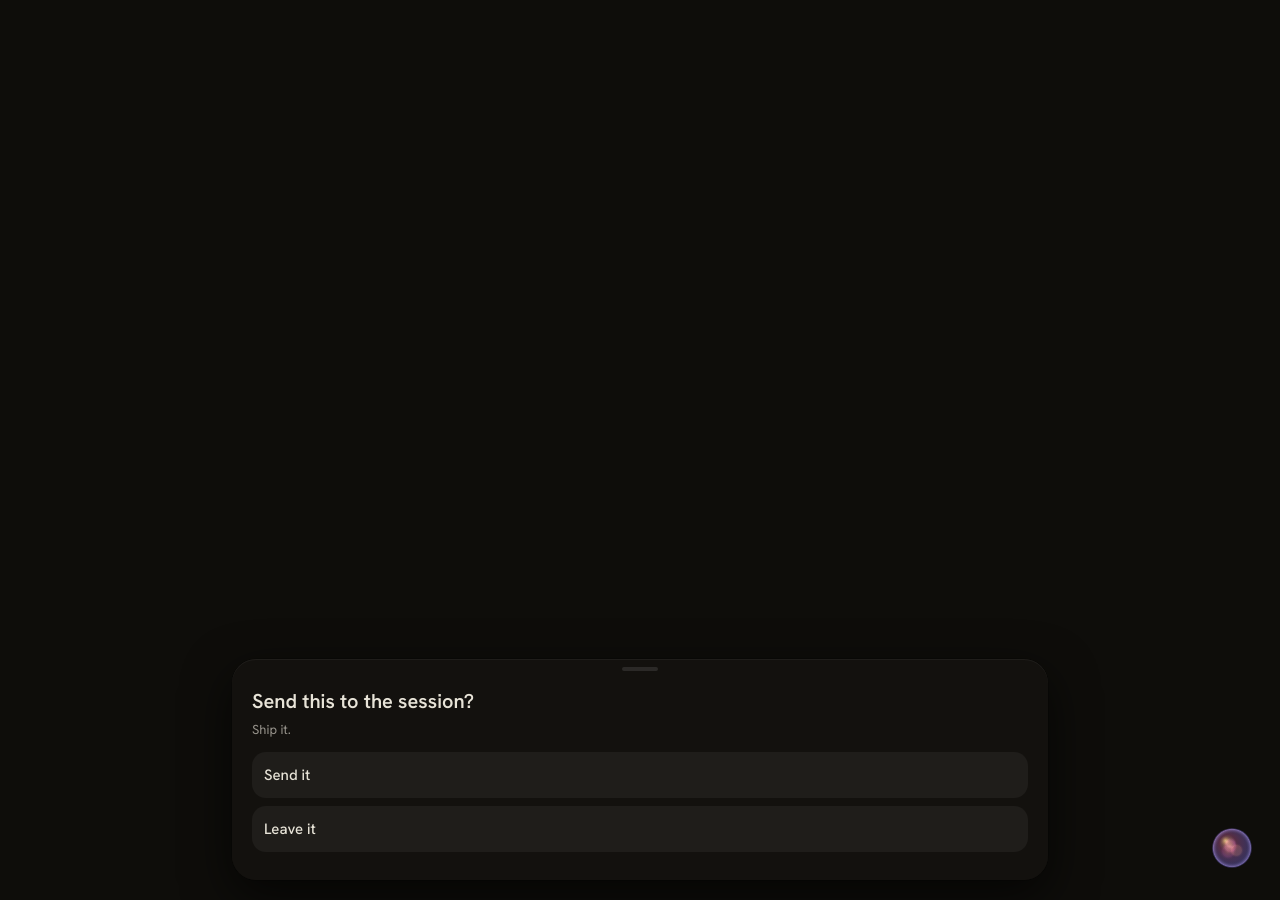
Test: the live Talk surface › shows an awaited consent sheet and settles a refusal
Expected: the dialog "Send this to the session?" is shown, [232,659,1048,880]
Click the button "Leave it": [290, 829] box [252,806,1028,852]
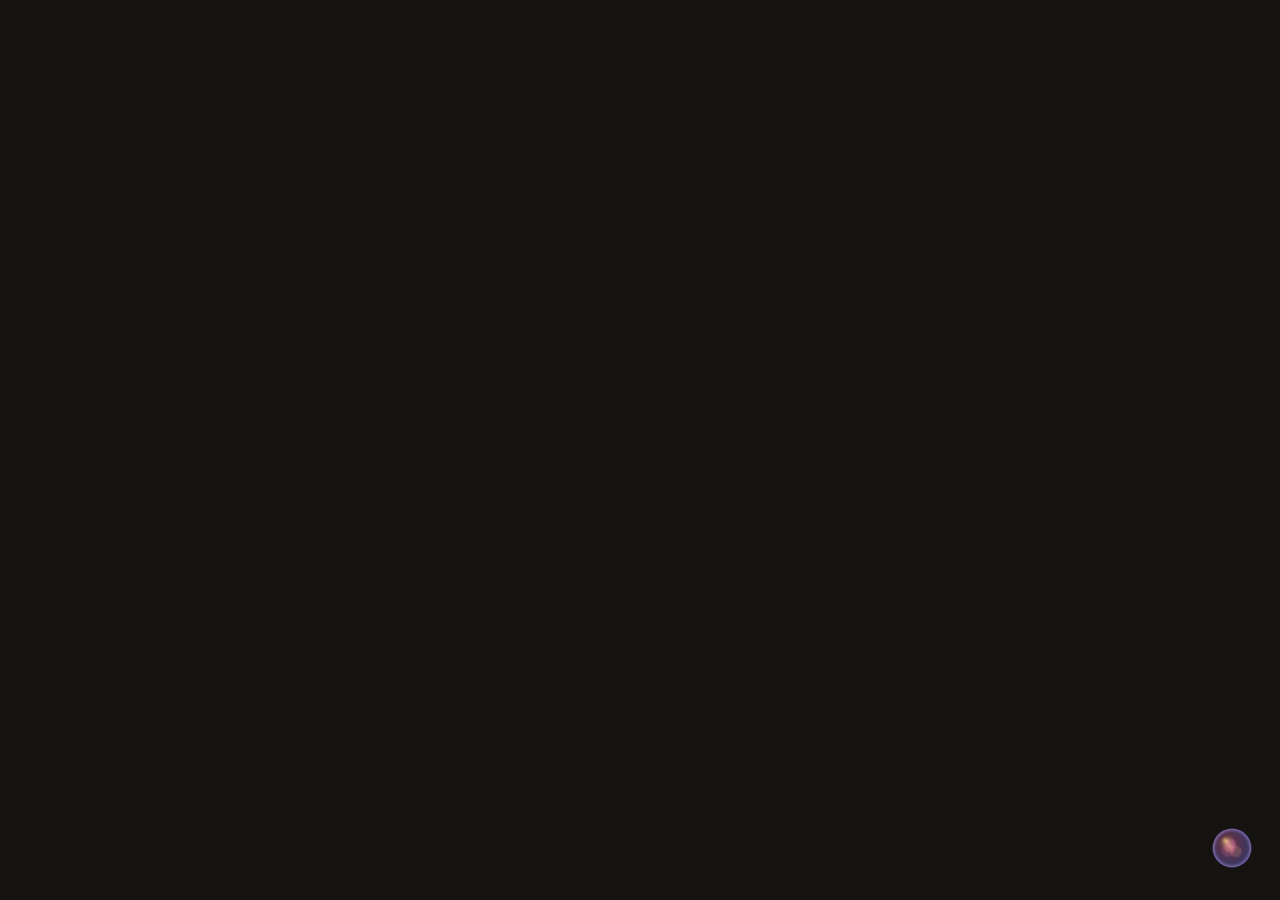
Now the dialog is gone
